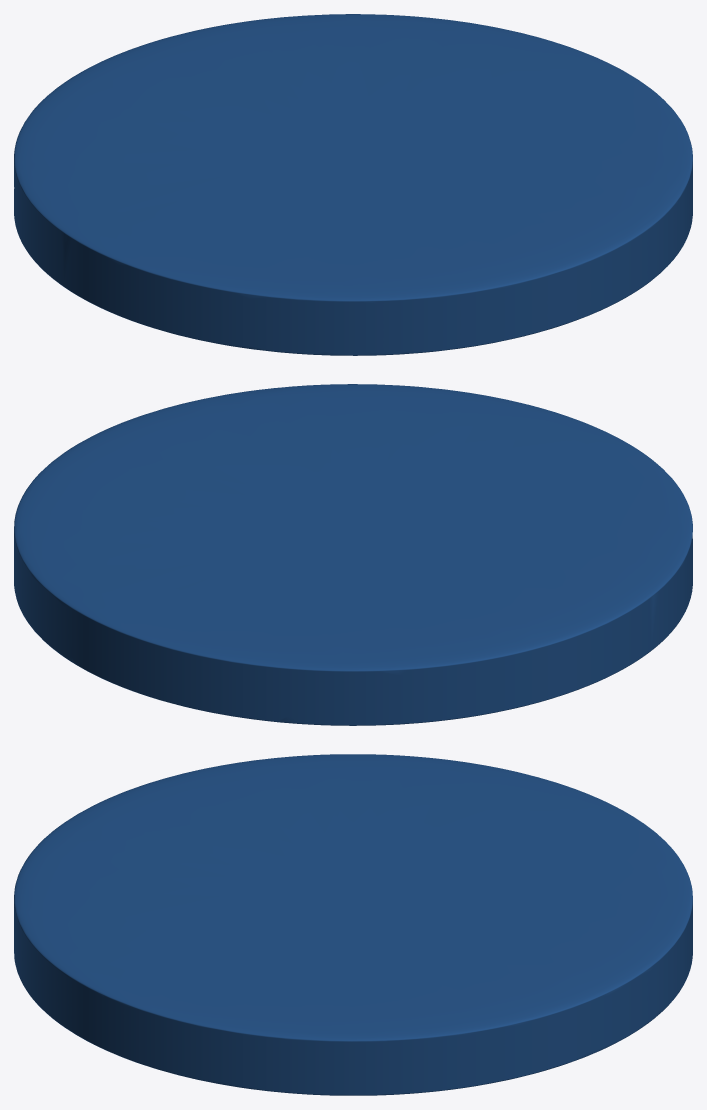
3 views of the same model, one above another, from view 1: azimuth 30°, elevation 25°; view 2: azimuth 150°, elevation 25°; view 3: azimuth 270°, elevation 25° (orthographic).
Parts seen in each view (by area): view 1: PM3D_Cylinder3D1; view 2: PM3D_Cylinder3D1; view 3: PM3D_Cylinder3D1.
Part boxes in pixels (x1,y1,x2,y2): PM3D_Cylinder3D1: (14,14,692,355); PM3D_Cylinder3D1: (14,384,692,725); PM3D_Cylinder3D1: (14,754,692,1095).
Size of the model in its own units: 1.99 by 0.2 by 1.99.
